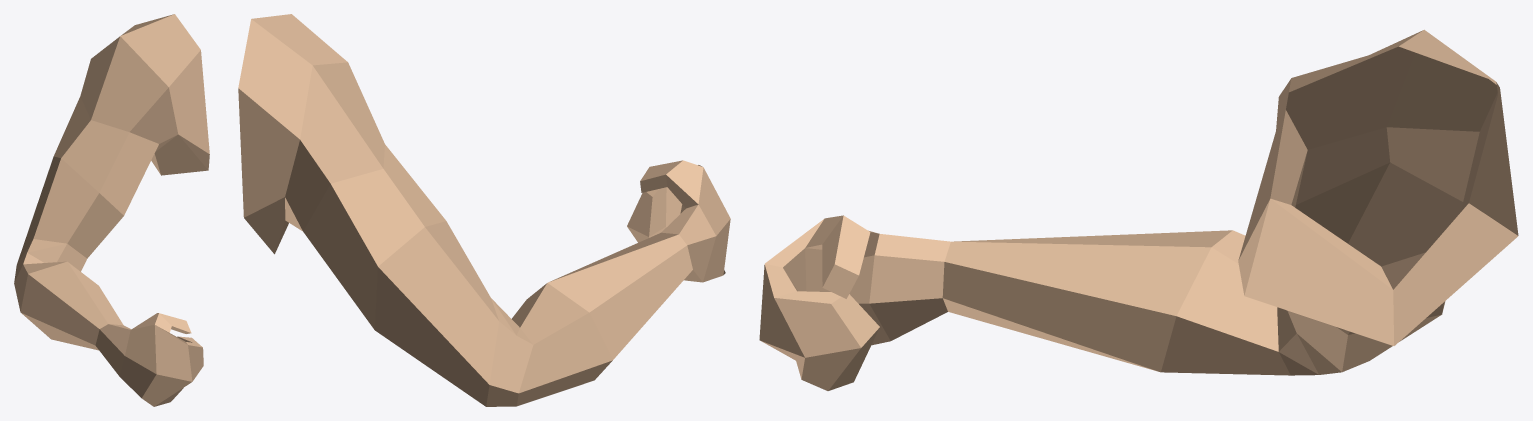
File: Arm.R.fbx
The picture shows the model from 3 angles, left to right: view 1: azimuth 30°, elevation 25°; view 2: azimuth 150°, elevation 25°; view 3: azimuth 270°, elevation 25°; orthographic projection. The views are drawn at different scales.
Visible parts, largest first — view 1: man.001; view 2: man.001; view 3: man.001.
Boxes of the visible parts, box(x1,y1,x2,y2) form: man.001: box(14, 14, 209, 406); man.001: box(238, 14, 730, 406); man.001: box(759, 29, 1518, 390).
Bounding box in the file's own units: 32.95 × 38.08 × 54.16.
